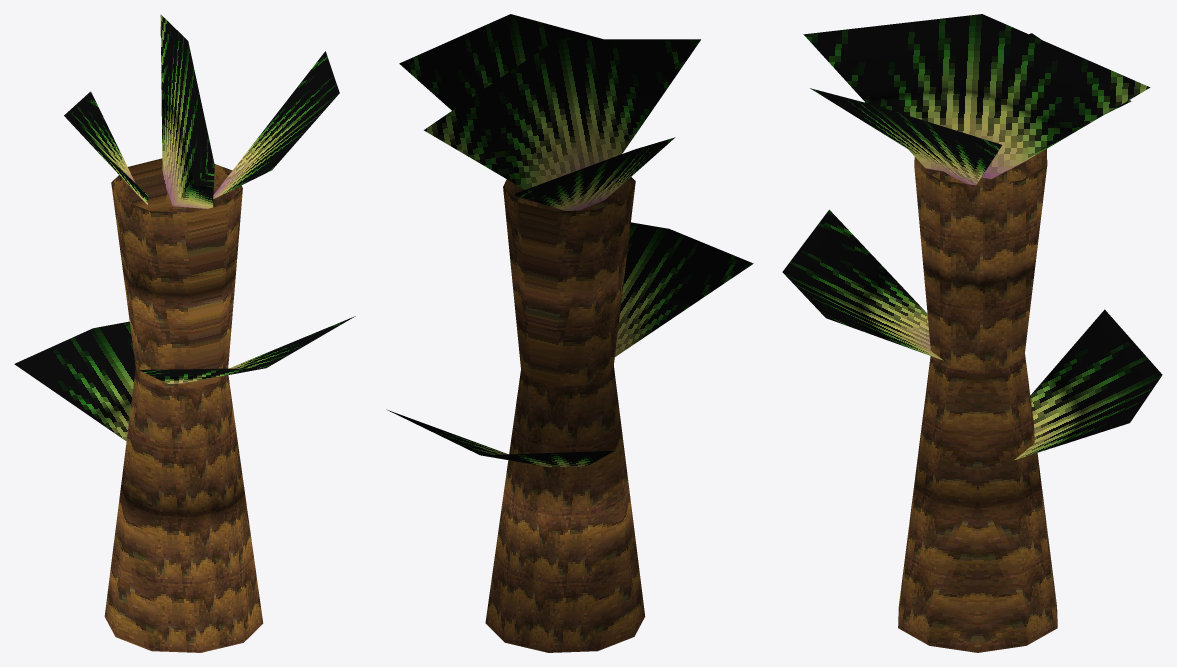
The model's file is PpalmtreeZ.obj.
3 views of the same model, side by side, from view 1: azimuth 30°, elevation 25°; view 2: azimuth 150°, elevation 25°; view 3: azimuth 270°, elevation 25° (orthographic). The views are drawn at different scales.
Bounding box in the file's own units: 872 × 1780 × 1012.
2 materials, 2 textured.
